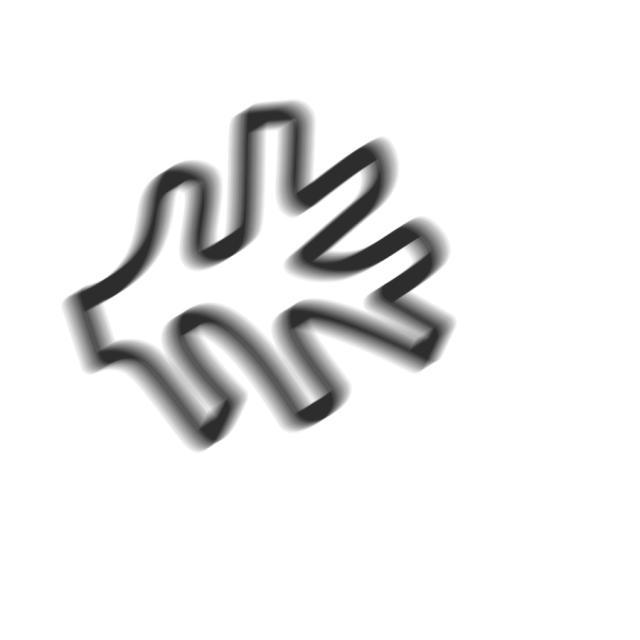coral: (58, 96, 466, 461)
